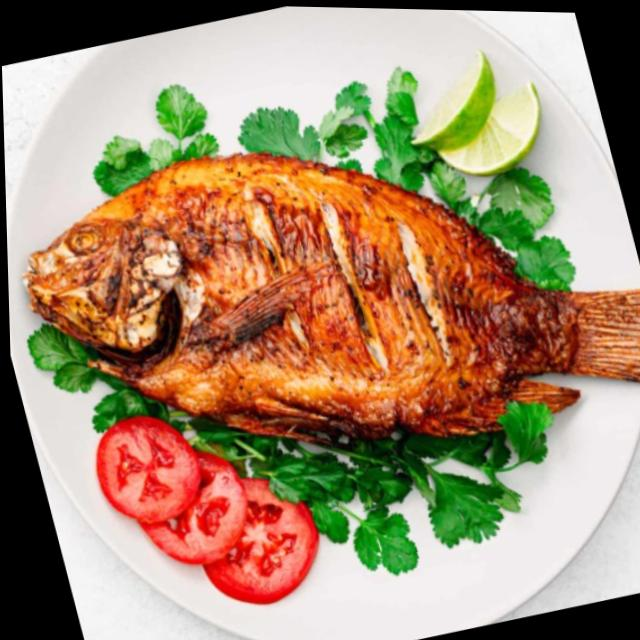FISH FRY: (24, 152, 640, 439)
